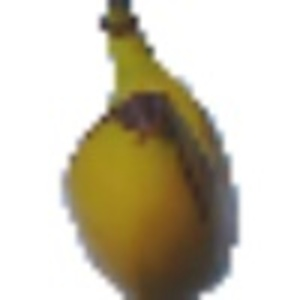banana: (55, 2, 242, 298)
